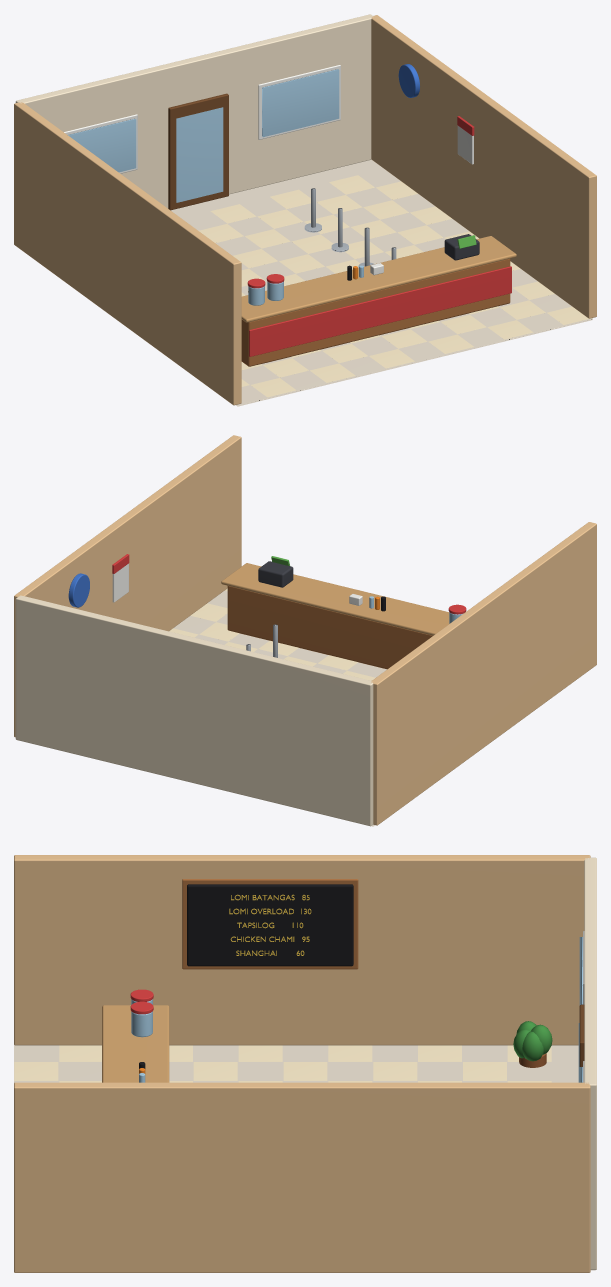
Rendered from counter.glb.
3 renders of one model, top to bottom at view 1: azimuth 30°, elevation 25°; view 2: azimuth 150°, elevation 25°; view 3: azimuth 270°, elevation 25°, orthographic. The views are drawn at different scales.
Parts seen in each view (by area): view 1: WallL, Floor, WallR, BackWall, CounterPanel, CounterTop, Counter, DoorGlass, Window.001, DoorFrame, Window, WindowFrame.001 (+2 smaller); view 2: BackWall, WallL, WallR, Counter, CounterTop, Floor, Register, Fan; view 3: WallR, WallL, Floor, MenuBoard, CounterTop, BackWall, MenuFrame, Plant.
Part boxes in pixels (x1=…): WallL: x1=14, y1=102, x2=241, y2=405; Floor: x1=171, y1=159, x2=592, y2=406; WallR: x1=371, y1=15, x2=596, y2=318; BackWall: x1=15, y1=14, x2=373, y2=208; CounterPanel: x1=249, y1=266, x2=511, y2=356; CounterTop: x1=241, y1=236, x2=516, y2=322; Counter: x1=241, y1=258, x2=510, y2=366; DoorGlass: x1=176, y1=107, x2=223, y2=202; Window.001: x1=262, y1=69, x2=339, y2=137; DoorFrame: x1=168, y1=93, x2=228, y2=210; Window: x1=68, y1=118, x2=136, y2=172; WindowFrame.001: x1=258, y1=65, x2=340, y2=139; BackWall: x1=15, y1=595, x2=373, y2=826; WallL: x1=371, y1=522, x2=596, y2=825; WallR: x1=14, y1=435, x2=241, y2=737; Counter: x1=227, y1=586, x2=432, y2=669; CounterTop: x1=221, y1=563, x2=449, y2=635; Floor: x1=169, y1=588, x2=386, y2=826; Register: x1=258, y1=561, x2=293, y2=587; Fan: x1=68, y1=573, x2=89, y2=607; WallR: x1=14, y1=1082, x2=590, y2=1272; WallL: x1=14, y1=855, x2=590, y2=1045; Floor: x1=14, y1=1045, x2=590, y2=1272; MenuBoard: x1=187, y1=884, x2=353, y2=966; CounterTop: x1=102, y1=1005, x2=169, y2=1082; BackWall: x1=584, y1=857, x2=596, y2=1270; MenuFrame: x1=182, y1=879, x2=358, y2=969; Plant: x1=513, y1=1021, x2=552, y2=1067.
Bounding box in the file's own units: 8.6 × 3.38 × 9.1.
